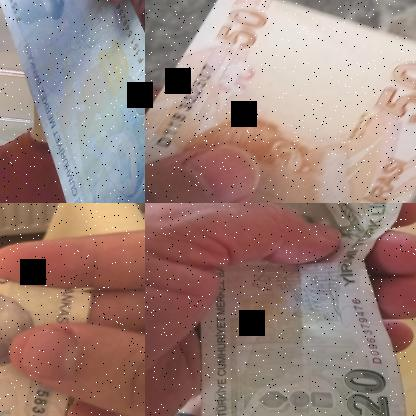5 TL: (0, 0, 144, 202)
